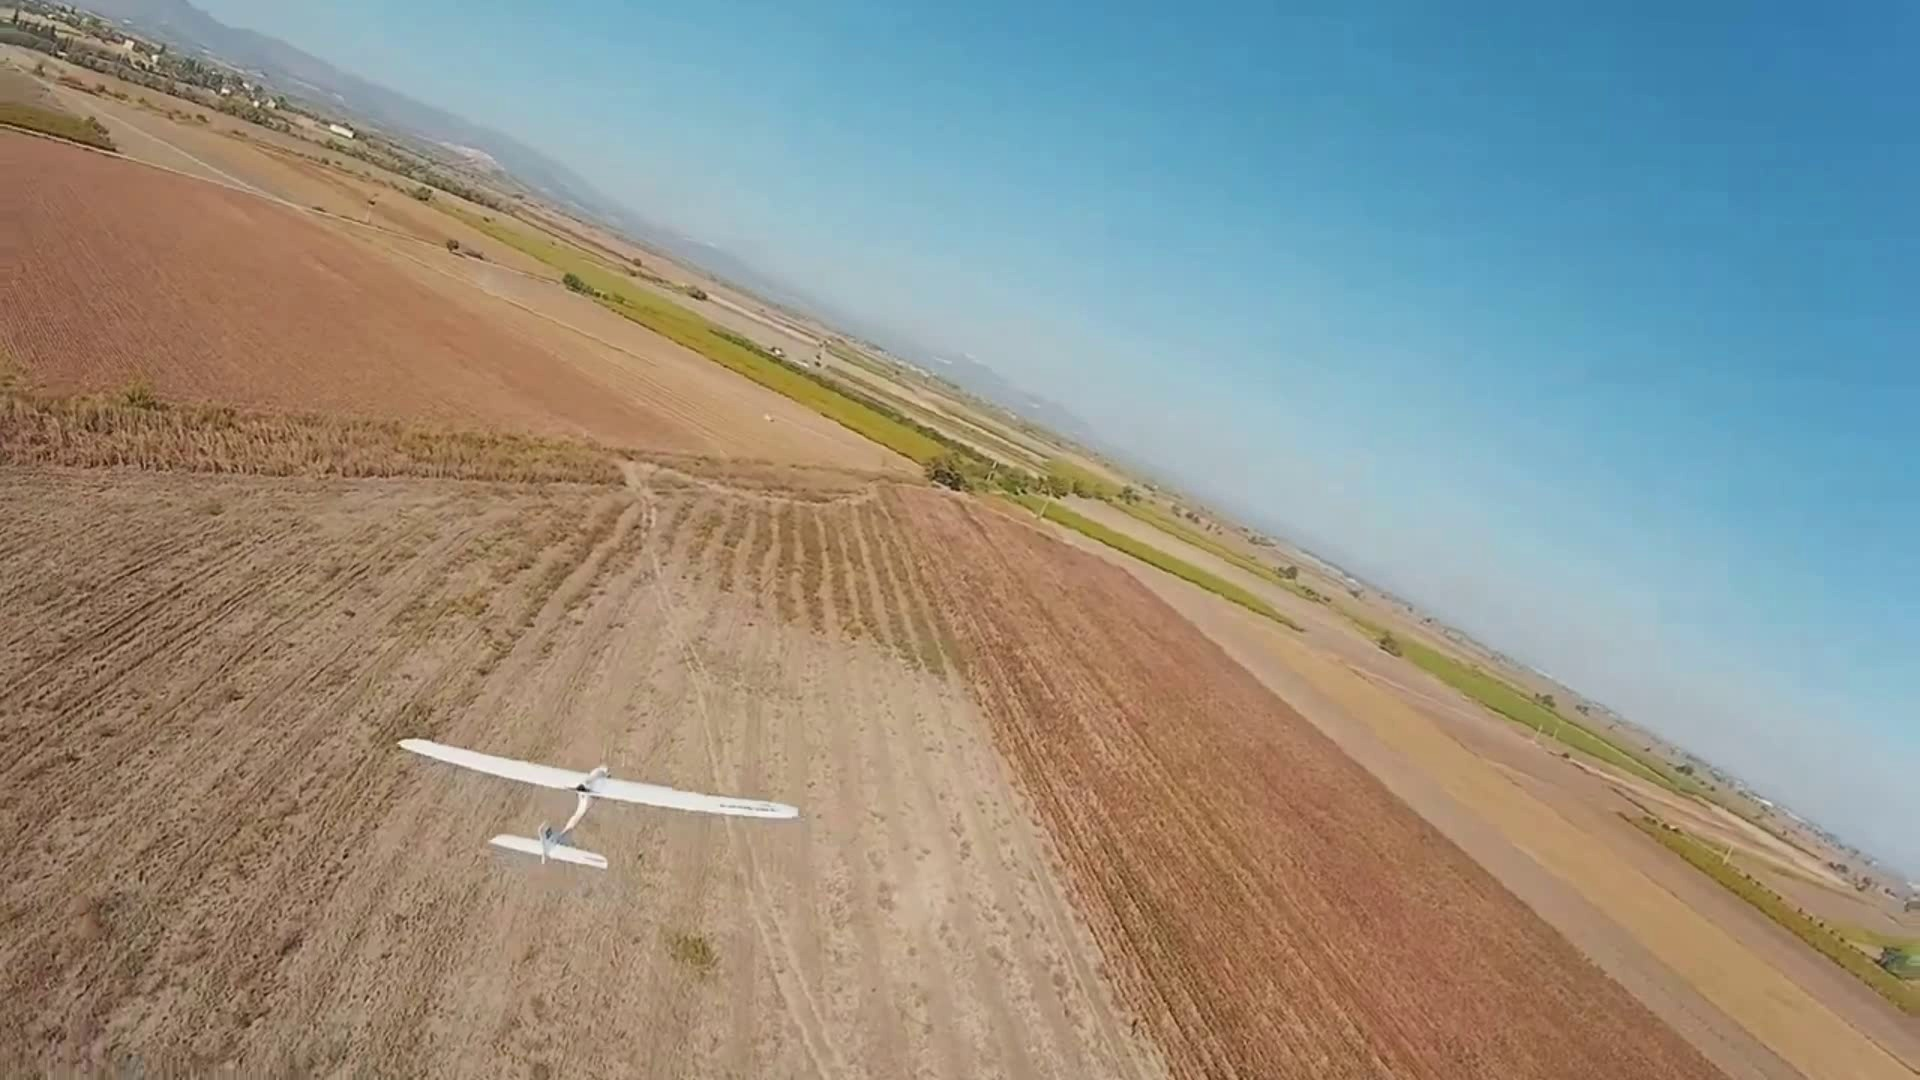airplane: (396, 738, 796, 870)
